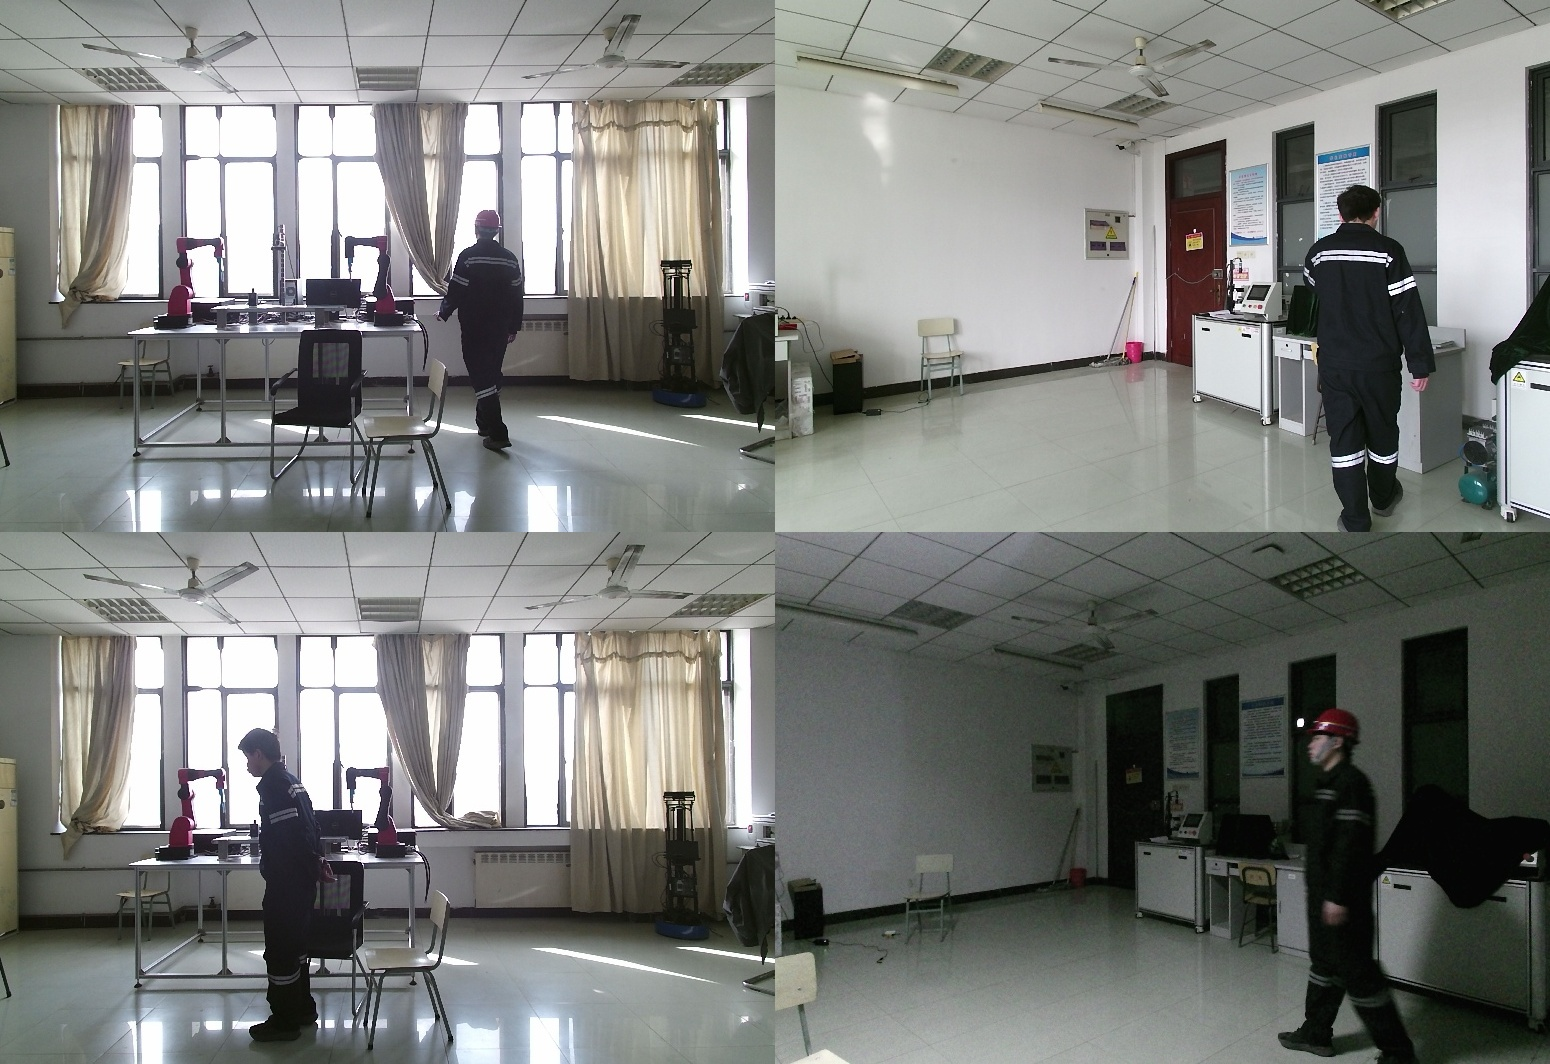person: (1286, 706, 1438, 1064), (1299, 189, 1450, 532), (238, 728, 336, 1039), (439, 207, 529, 455)
